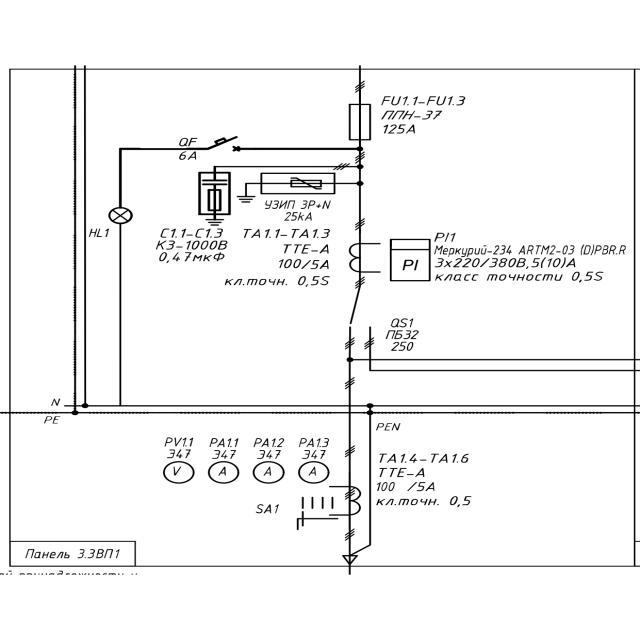-: (431, 244, 628, 286), (222, 241, 332, 288), (374, 466, 477, 510), (380, 108, 468, 137), (262, 197, 333, 223), (22, 546, 120, 564), (206, 435, 243, 461), (384, 328, 420, 354), (162, 434, 196, 461), (298, 435, 332, 461), (250, 436, 287, 459), (250, 501, 284, 516), (173, 150, 205, 164)
FU: (345, 101, 375, 142)
HL: (105, 205, 135, 224)
PA: (297, 460, 331, 486), (252, 460, 285, 486), (207, 460, 241, 485)
PV: (159, 460, 196, 484)
QF: (206, 134, 241, 153)
S: (292, 494, 340, 529)
TT: (348, 239, 383, 275), (327, 483, 363, 518)
WH: (387, 237, 431, 283)
YZIP: (260, 171, 337, 195)
switch: (348, 297, 376, 332)
